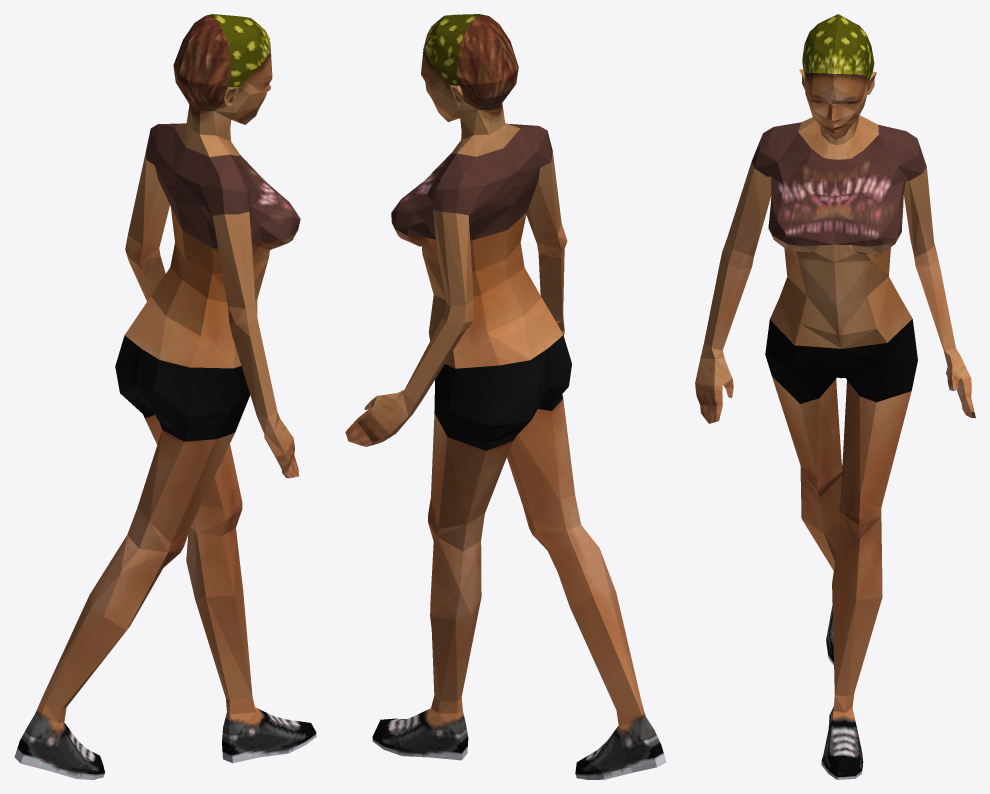
The model's file is wfyjg.obj.
3 views of the same model, side by side, from view 1: azimuth 30°, elevation 25°; view 2: azimuth 150°, elevation 25°; view 3: azimuth 270°, elevation 25° (orthographic). The views are drawn at different scales.
Visible parts, largest first — view 1: _Pelvis; view 2: _Pelvis; view 3: _Pelvis.
Boxes of the visible parts, left/top/right/bottom form: _Pelvis: left=14, top=14, right=316, bottom=779; _Pelvis: left=345, top=14, right=666, bottom=779; _Pelvis: left=695, top=14, right=975, bottom=779.
Bounding box in the file's own units: 0.7331 × 1.8 × 0.6329.
1 material, 1 textured.
